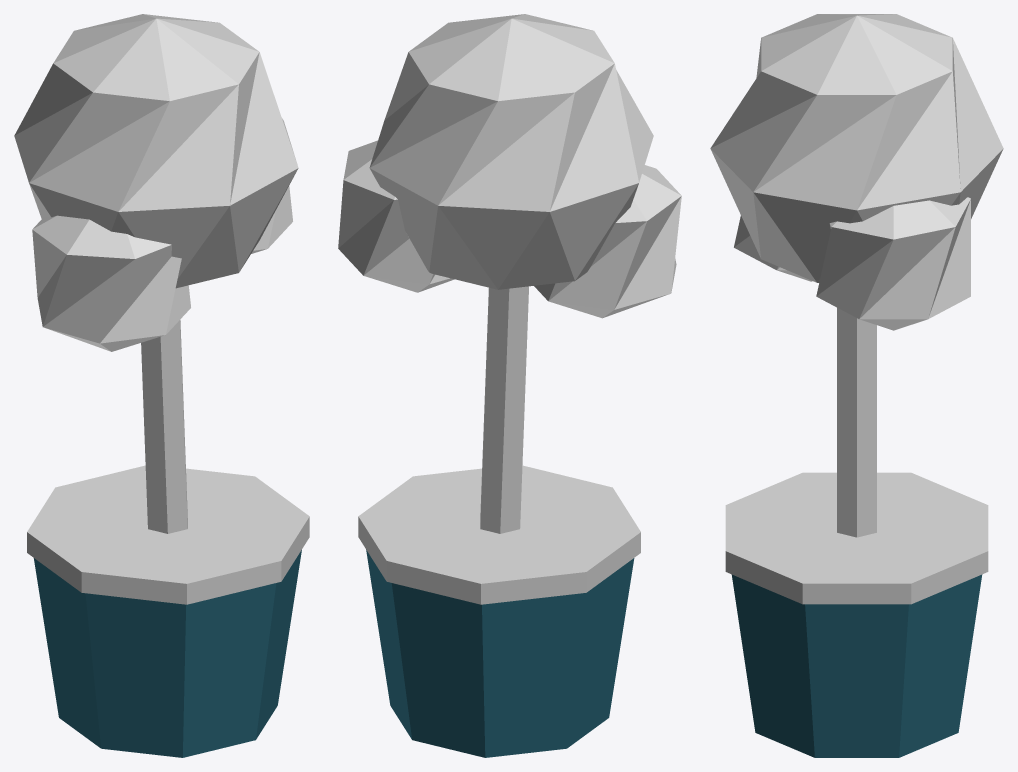
File: decor_potted_tree.obj
3 renders of one model, left to right at view 1: azimuth 30°, elevation 25°; view 2: azimuth 150°, elevation 25°; view 3: azimuth 270°, elevation 25°, orthographic.
Parts seen in each view (by area): view 1: Body; view 2: Body; view 3: Body.
Part boxes in pixels (x1=…): Body: x1=14, y1=14, x2=309, y2=757; Body: x1=338, y1=14, x2=681, y2=757; Body: x1=710, y1=14, x2=1003, y2=757.
Size of the model in its own units: 0.7064 by 1.67 by 0.64.
